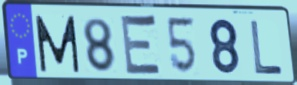5: (165, 15, 200, 78)
8: (80, 16, 119, 74), (208, 16, 242, 77)
E: (119, 12, 164, 80)
L: (249, 19, 285, 77)
M: (33, 13, 82, 74)
